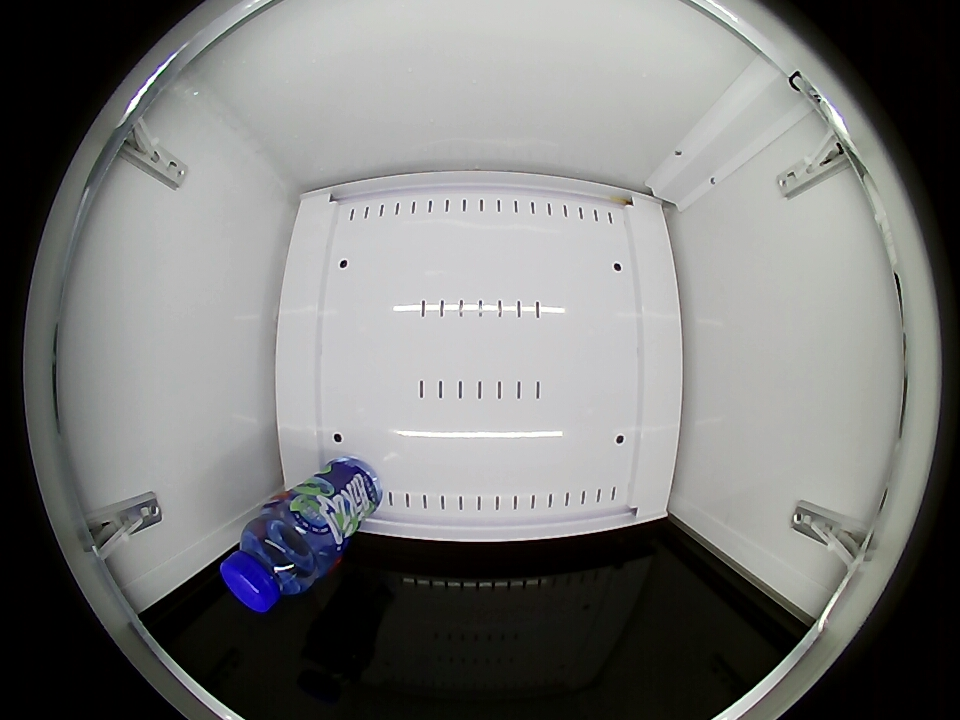maidong: (220, 510, 327, 613)
